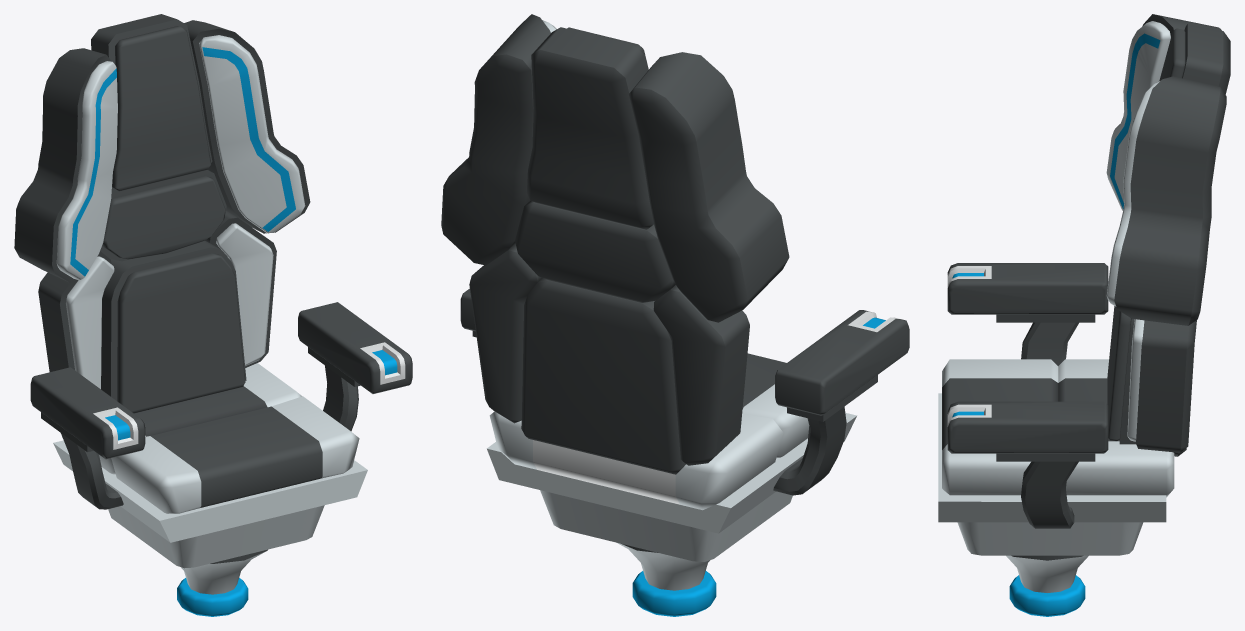
Rendered from Armchair_002.fbx.
3 views of the same model, side by side, from view 1: azimuth 30°, elevation 25°; view 2: azimuth 150°, elevation 25°; view 3: azimuth 270°, elevation 25° (orthographic). The views are drawn at different scales.
Visible parts, largest first — view 1: Armchair_002; view 2: Armchair_002; view 3: Armchair_002.
Part boxes in pixels (x1,y1,x2,y2): Armchair_002: [14, 14, 412, 616]; Armchair_002: [441, 14, 909, 616]; Armchair_002: [938, 14, 1230, 616].
Bounding box in the file's own units: 90.47 × 69.42 × 148.
